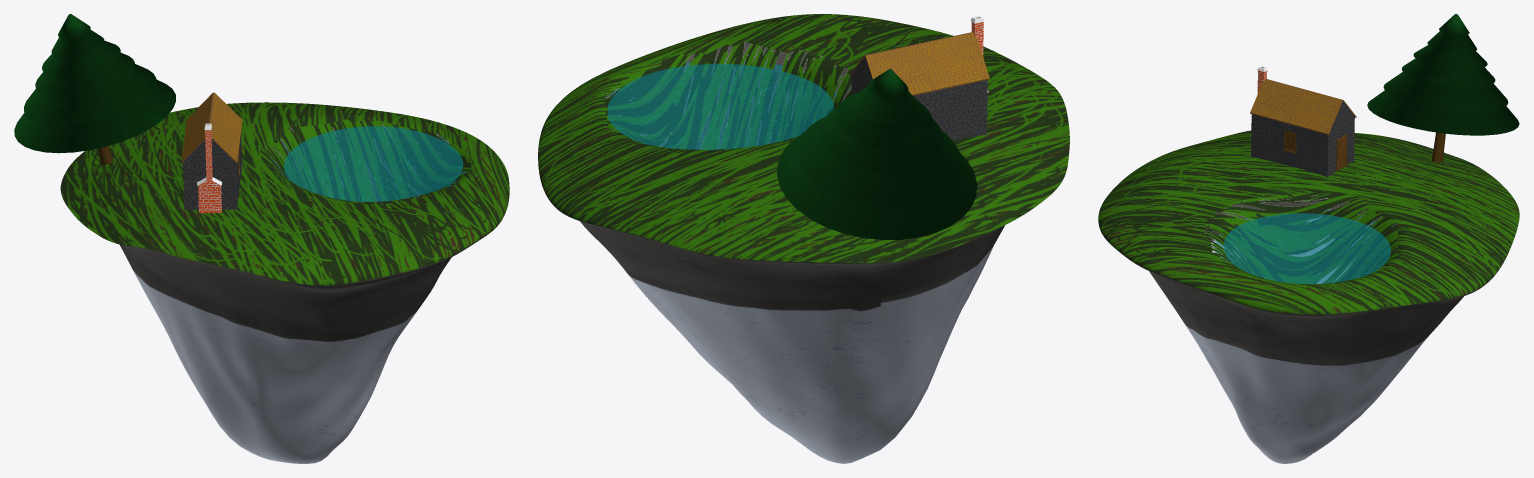
3 views of the same model, side by side, from view 1: azimuth 30°, elevation 25°; view 2: azimuth 150°, elevation 25°; view 3: azimuth 270°, elevation 25° (orthographic). The views are drawn at different scales.
Parts seen in each view (by area): view 1: Land, Leaves, Water, Cabin, Chimney; view 2: Land, Leaves, Water, Cabin; view 3: Land, Leaves, Water, Cabin.
Boxes of the visible parts, <box> form: Land: <box>60,102,509,463</box>; Leaves: <box>14,14,175,153</box>; Water: <box>271,126,466,201</box>; Cabin: <box>181,92,242,209</box>; Chimney: <box>197,123,222,213</box>; Land: <box>538,14,1069,463</box>; Leaves: <box>777,69,977,239</box>; Water: <box>607,59,842,149</box>; Cabin: <box>849,32,989,140</box>; Land: <box>1098,130,1519,463</box>; Leaves: <box>1367,14,1519,135</box>; Water: <box>1215,209,1390,284</box>; Cabin: <box>1250,79,1356,177</box>.
Size of what is drawn, in the model's own units: 28.26 by 28.57 by 28.42.
